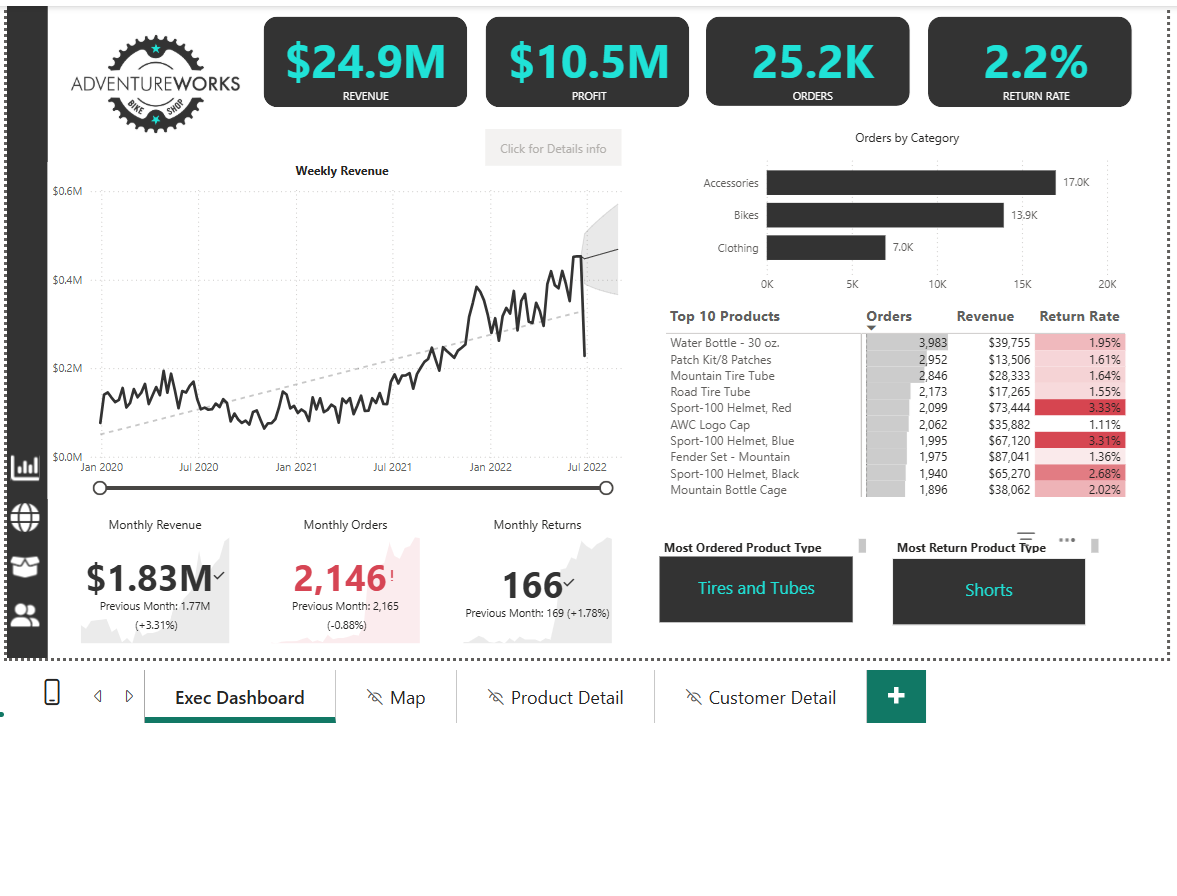

What the dashboard file says about the page in this screenshot:
{"tool":"powerbi","page":{"name":"Exec Dashboard","canvas":[1280,720],"ordinal":0},"visuals":[{"type":"group","id":"g1","title":"KPI","box":[284,12.3,959.2,100.2],"z":0},{"type":"shape","box":[284,12.3,225,100.2],"z":0,"group":"g1"},{"type":"shape","title":"Left Navigation","box":[0,0,45,720.4],"z":1000},{"type":"shape","box":[528.7,12.3,225,100.2],"z":1000,"group":"g1"},{"type":"actionButton","box":[0.3,491,44.6,39.8],"z":1000,"group":"g2"},{"type":"image","title":"Logo","box":[45.3,0,238.8,172.9],"z":2000},{"type":"shape","box":[773.4,12.3,225,98.8],"z":2000,"group":"g1"},{"type":"actionButton","box":[0.3,545.3,44.6,39.8],"z":2000,"group":"g2"},{"type":"card","fields":{"Values":["Measure Table (DAX).Total Revenue"]},"box":[251.1,0,288.2,131.7],"z":3000},{"type":"shape","box":[1018.1,12.3,225,100.2],"z":3000,"group":"g1"},{"type":"actionButton","box":[0.3,599.6,44.6,39.8],"z":3000,"group":"g2"},{"type":"card","fields":{"Values":["Measure Table (DAX).Total Profit"]},"box":[498.1,0,288.2,131.7],"z":4000},{"type":"actionButton","box":[0.3,653.9,44.6,39.8],"z":4000,"group":"g2"},{"type":"card","fields":{"Values":["Measure Table (DAX).Return Rate"]},"box":[991.8,0,288.2,131.7],"z":5000},{"type":"card","fields":{"Values":["Measure Table (DAX).Total Orders"]},"box":[745.1,0,288.2,131.7],"z":6000},{"type":"lineChart","title":"Weekly Revenue","fields":{"Category":["Calendar Lookup.Start of Week"],"Y":["Measure Table (DAX).Total Revenue"]},"box":[44.7,172.5,650.4,371.1],"z":7000},{"type":"kpi","title":"Monthly  Revenue","fields":{"Goal":["Measure Table (DAX).Prev Month Revenue"],"Indicator":["Measure Table (DAX).Total Revenue"],"TrendLine":["Calendar Lookup.Date Hierarchy.Start of Month"]},"box":[76.3,563.2,174.4,145.3],"z":8000},{"type":"kpi","title":"Monthly  Orders","fields":{"Goal":["Measure Table (DAX).Previous Month Orders"],"Indicator":["Measure Table (DAX).Total Orders"],"TrendLine":["Calendar Lookup.Date Hierarchy.Start of Month"]},"box":[287.1,563.2,174.4,145.3],"z":9000},{"type":"kpi","title":"Monthly  Returns ","fields":{"Goal":["Measure Table (DAX).Previous Month Return"],"Indicator":["Measure Table (DAX).Total Returns"],"TrendLine":["Calendar Lookup.Date Hierarchy.Start of Month"]},"box":[497.8,563.2,174.4,145.3],"z":10000},{"type":"clusteredBarChart","title":"Orders by Category","fields":{"Category":["Product Categories Lookup.CategoryName"],"Y":["Measure Table (DAX).Total Orders"]},"box":[759.5,135.1,470.8,189.2],"z":11000},{"type":"pivotTable","fields":{"Rows":["Product Lookup.ProductName"],"Values":["Measure Table (DAX).Total Orders","Measure Table (DAX).Total Revenue","Measure Table (DAX).Return Rate"]},"box":[722.5,324.3,537.6,229],"z":12000},{"type":"card","fields":{"Values":["Min(Product Subcategories Lookup.SubcategoryName)"]},"box":[721.4,608.1,213.3,72.5],"z":13000},{"type":"textbox","box":[721.4,582.5,233.2,25.6],"z":14000},{"type":"card","fields":{"Values":["Min(Product Subcategories Lookup.SubcategoryName)"]},"box":[976.7,610.3,213.5,73.6],"z":15000},{"type":"textbox","box":[977.4,583.7,233.2,25.6],"z":16000},{"type":"group","id":"g2","title":"Navigation Button","box":[0.3,491,44.6,202.7],"z":17000},{"type":"actionButton","box":[528.1,135.6,150,40.4],"z":18000}]}

Visuals, with their boxes on the page's 1280x720 design canvas (x1, y1, x2, y2). These are canvas units, not pixel positions in the 1177x896 screenshot, which may show the page scaled, cropped or inside an application window:
"KPI" group: [x1=284, y1=12, x2=1243, y2=112]
shape: [x1=284, y1=12, x2=509, y2=112]
"Left Navigation" shape: [x1=0, y1=0, x2=45, y2=720]
shape: [x1=529, y1=12, x2=754, y2=112]
actionButton: [x1=0, y1=491, x2=45, y2=531]
"Logo" image: [x1=45, y1=0, x2=284, y2=173]
shape: [x1=773, y1=12, x2=998, y2=111]
actionButton: [x1=0, y1=545, x2=45, y2=585]
card - Measure Table (DAX).Total Revenue: [x1=251, y1=0, x2=539, y2=132]
shape: [x1=1018, y1=12, x2=1243, y2=112]
actionButton: [x1=0, y1=600, x2=45, y2=639]
card - Measure Table (DAX).Total Profit: [x1=498, y1=0, x2=786, y2=132]
actionButton: [x1=0, y1=654, x2=45, y2=694]
card - Measure Table (DAX).Return Rate: [x1=992, y1=0, x2=1280, y2=132]
card - Measure Table (DAX).Total Orders: [x1=745, y1=0, x2=1033, y2=132]
"Weekly Revenue" lineChart: [x1=45, y1=172, x2=695, y2=544]
"Monthly  Revenue" kpi: [x1=76, y1=563, x2=251, y2=708]
"Monthly  Orders" kpi: [x1=287, y1=563, x2=462, y2=708]
"Monthly  Returns " kpi: [x1=498, y1=563, x2=672, y2=708]
"Orders by Category" clusteredBarChart: [x1=760, y1=135, x2=1230, y2=324]
pivotTable - Product Lookup.ProductName x Measure Table (DAX).Total Orders: [x1=722, y1=324, x2=1260, y2=553]
card - Min(Product Subcategories Lookup.SubcategoryName): [x1=721, y1=608, x2=935, y2=681]
textbox: [x1=721, y1=582, x2=955, y2=608]
card - Min(Product Subcategories Lookup.SubcategoryName): [x1=977, y1=610, x2=1190, y2=684]
textbox: [x1=977, y1=584, x2=1211, y2=609]
"Navigation Button" group: [x1=0, y1=491, x2=45, y2=694]
actionButton: [x1=528, y1=136, x2=678, y2=176]
